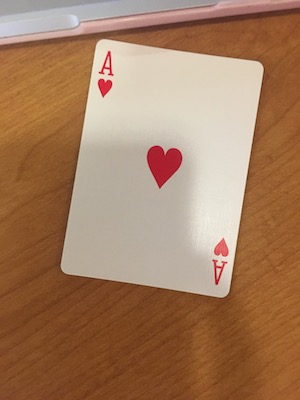AceOfHearts: (61, 37, 267, 299)
